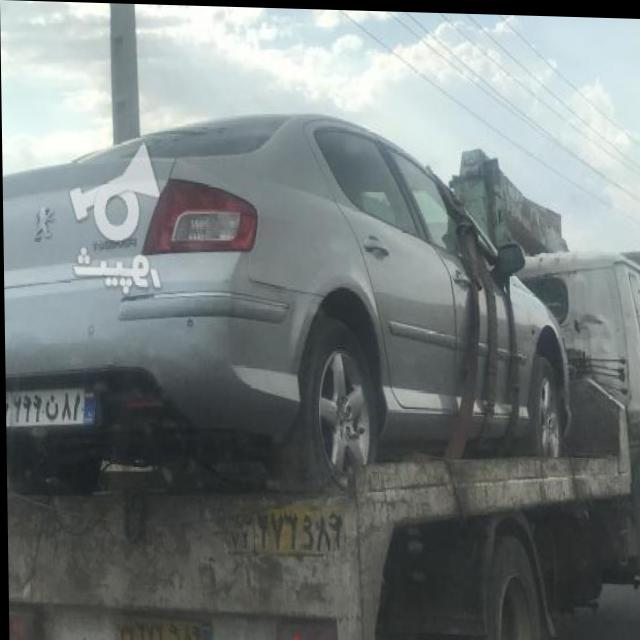licence: (6, 376, 108, 432)
